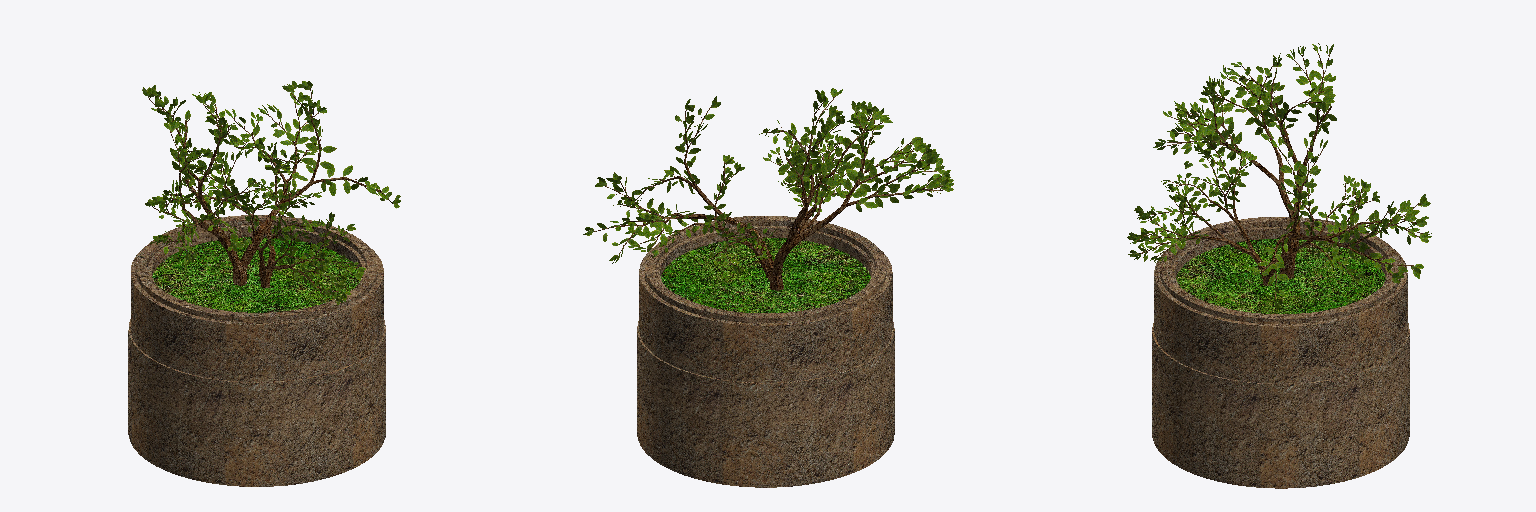
The picture shows the model from 3 angles: view 1: azimuth 30°, elevation 25°; view 2: azimuth 150°, elevation 25°; view 3: azimuth 270°, elevation 25°; orthographic projection.
Parts seen in each view (by area): view 1: potted_plant.001; view 2: potted_plant.001; view 3: potted_plant.001.
Part boxes in pixels (bbox=[...]): potted_plant.001: bbox=[128, 81, 400, 486]; potted_plant.001: bbox=[583, 88, 953, 487]; potted_plant.001: bbox=[1127, 43, 1431, 488].
Bounding box in the file's own units: 1.53 × 1.77 × 1.38.
Materials: 4 (4 with a texture image).